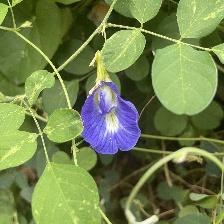shankupushpam: (80, 77, 145, 157)
